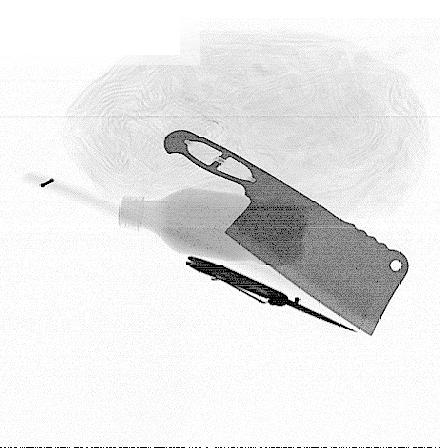Knife: (163, 129, 409, 336), (185, 256, 358, 334)
